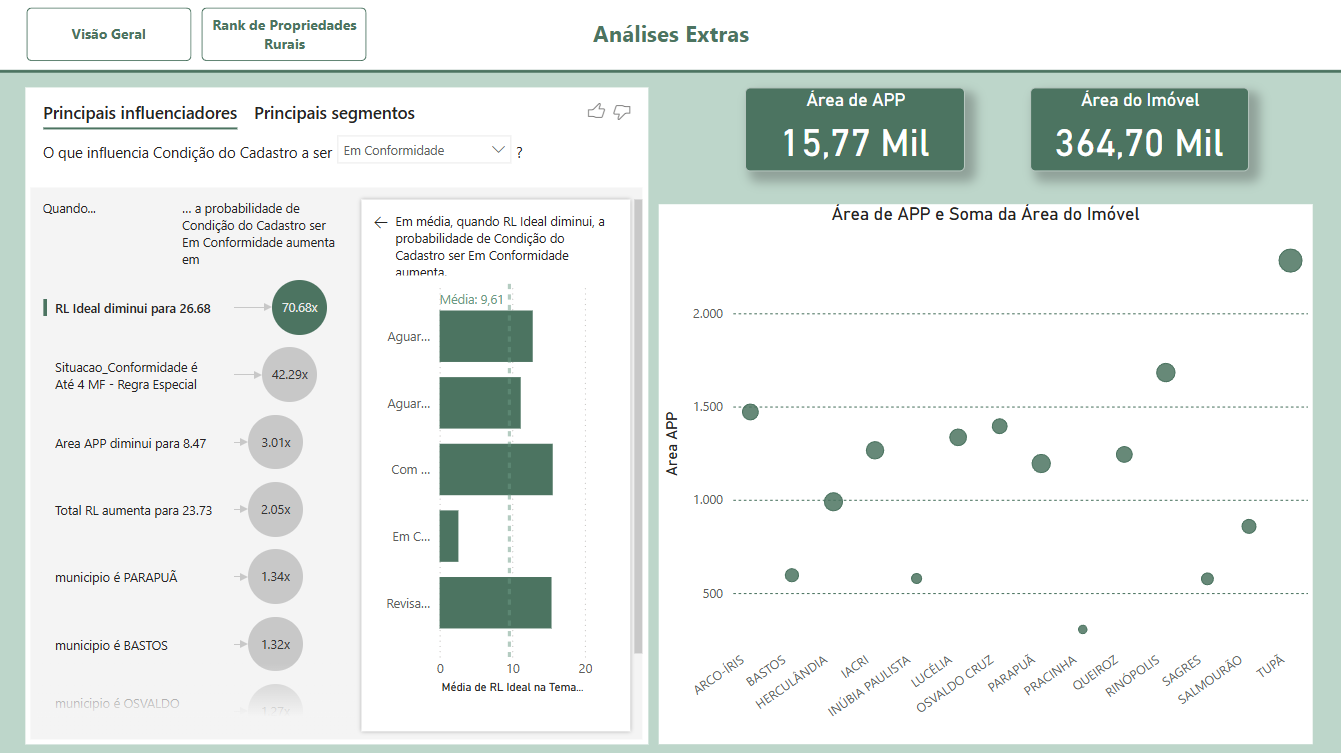

The dashboard page shown, as its layout file describes it:
{"tool":"powerbi","page":{"name":"Análises Extras","canvas":[1280,720],"ordinal":8},"visuals":[{"type":"keyDriversVisual","fields":{"ExplainBy":["medidas.RL Ideal","medidas.Total RL","Temas Ambientais.Situacao_Conformidade","Temas Ambientais.tipo_imovel_rural","Temas Ambientais.municipio","medidas.Area APP"],"Target":["Temas Ambientais.Condição do Cadastro"]},"box":[26.5,85.2,591.5,624.9],"z":0},{"type":"scatterChart","title":"Área de APP e Soma da Área do Imóvel","fields":{"X":["Temas Ambientais.municipio"],"Y":["medidas.Area APP"],"Size":["medidas.Sum Area do Imovel"]},"box":[628.1,196.4,622.2,512.8],"z":1000},{"type":"card","title":"Área de APP","fields":{"Values":["medidas.Area APP"]},"box":[710.4,84.7,208.2,80],"z":2000},{"type":"card","title":"Área do Imóvel","fields":{"Values":["medidas.Sum Area do Imovel"]},"box":[981,84.7,208.2,80],"z":3000},{"type":"pageNavigator","box":[26.7,9.3,324.9,51.1],"z":4000},{"type":"textbox","box":[480,14.1,319.9,43.5],"z":5000}]}

Visuals, with their boxes in screenshot pixels (x1, y1, x2, y2), scaled from the page's 1280x720 canvas onto the 1341x753 screenshot:
keyDriversVisual - medidas.RL Ideal x medidas.Total RL: box(28, 89, 647, 743)
"Área de APP e Soma da Área do Imóvel" scatterChart: box(658, 205, 1310, 742)
"Área de APP" card: box(744, 89, 962, 172)
"Área do Imóvel" card: box(1028, 89, 1246, 172)
pageNavigator: box(28, 10, 368, 63)
textbox: box(503, 15, 838, 60)
